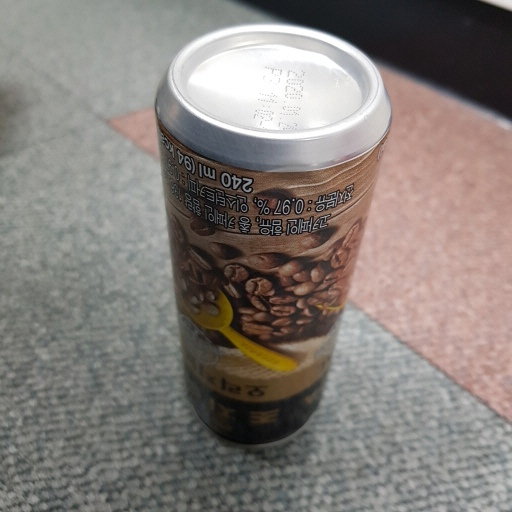Metal_0: (150, 23, 394, 447)
